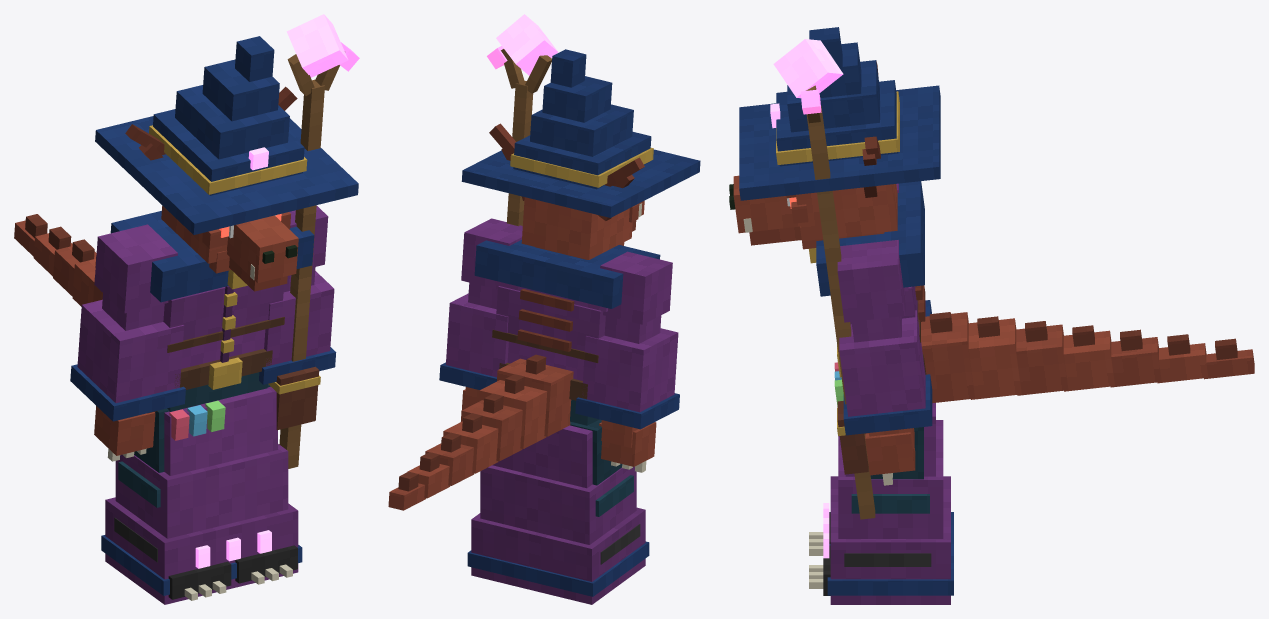
Rendered from lizard_mage_v3.glb.
3 renders of one model, left to right at view 1: azimuth 30°, elevation 25°; view 2: azimuth 150°, elevation 25°; view 3: azimuth 270°, elevation 25°, orthographic. The views are drawn at different scales.
Visible parts, largest first — view 1: Head, Root, Torso, ArmR, HandL, ArmL, LegR, LegL; view 2: Torso, Head, Root, ArmR, ArmL, HandL, LegR; view 3: Head, Torso, ArmL, Root, HandL, LegL.
Boxes of the visible parts, left/top/right/bottom form: Head: left=95, top=36, right=358, bottom=291; Root: left=101, top=386, right=302, bottom=604; Torso: left=14, top=210, right=320, bottom=440; ArmR: left=70, top=224, right=185, bottom=461; HandL: left=279, top=14, right=359, bottom=468; ArmL: left=259, top=206, right=336, bottom=384; LegR: left=114, top=408, right=231, bottom=599; LegL: left=235, top=384, right=297, bottom=583; Torso: left=388, top=240, right=660, bottom=510; Head: left=461, top=49, right=700, bottom=259; Root: left=467, top=425, right=649, bottom=604; ArmR: left=575, top=251, right=679, bottom=472; ArmL: left=439, top=218, right=522, bottom=410; HandL: left=487, top=14, right=558, bottom=226; LegR: left=570, top=419, right=640, bottom=564; Head: left=729, top=27, right=940, bottom=249; Torso: left=809, top=181, right=1254, bottom=474; ArmL: left=837, top=240, right=932, bottom=485; Root: left=809, top=403, right=953, bottom=604; HandL: left=773, top=39, right=875, bottom=519; LegL: left=823, top=427, right=931, bottom=595.
Size of the model in its own units: 0.8774 by 2.11 by 1.75.
Materials: 37 (37 with a texture image).
